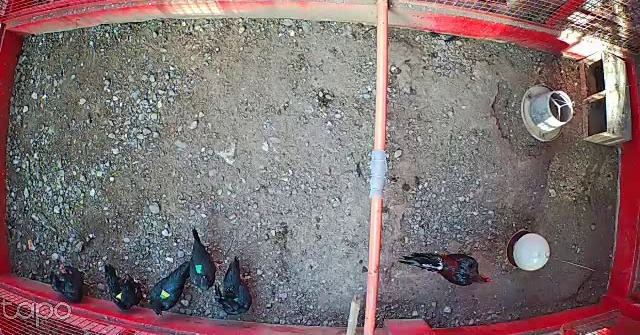Chicken: (145, 257, 195, 320), (181, 225, 221, 293), (213, 257, 255, 319), (101, 264, 147, 311), (45, 263, 98, 301)
Rooster: (401, 241, 492, 289)
Saddle_Color_Yellow: (118, 293, 123, 299)
Saddle_Color_YellowGreen: (160, 290, 171, 300)
